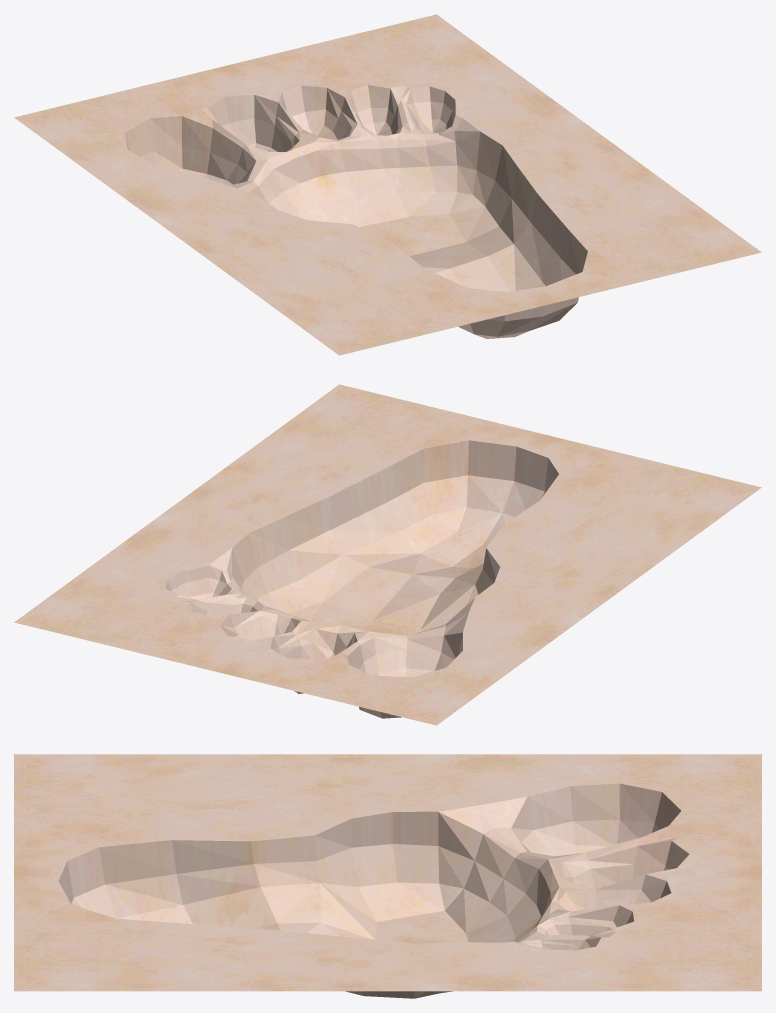
The model's file is sandbombbasefoot.dae.
The picture shows the model from 3 angles, top to bottom: view 1: azimuth 30°, elevation 25°; view 2: azimuth 150°, elevation 25°; view 3: azimuth 270°, elevation 25°; orthographic projection. The views are drawn at different scales.
Parts seen in each view (by area): view 1: m0; view 2: m0; view 3: m0.
Boxes of the visible parts, left/top/right/bottom form: m0: left=14, top=14, right=761, bottom=355; m0: left=14, top=384, right=761, bottom=725; m0: left=14, top=754, right=761, bottom=998.
Size of the model in its own units: 1200 by 202 by 1600.
1 material, 1 textured.
